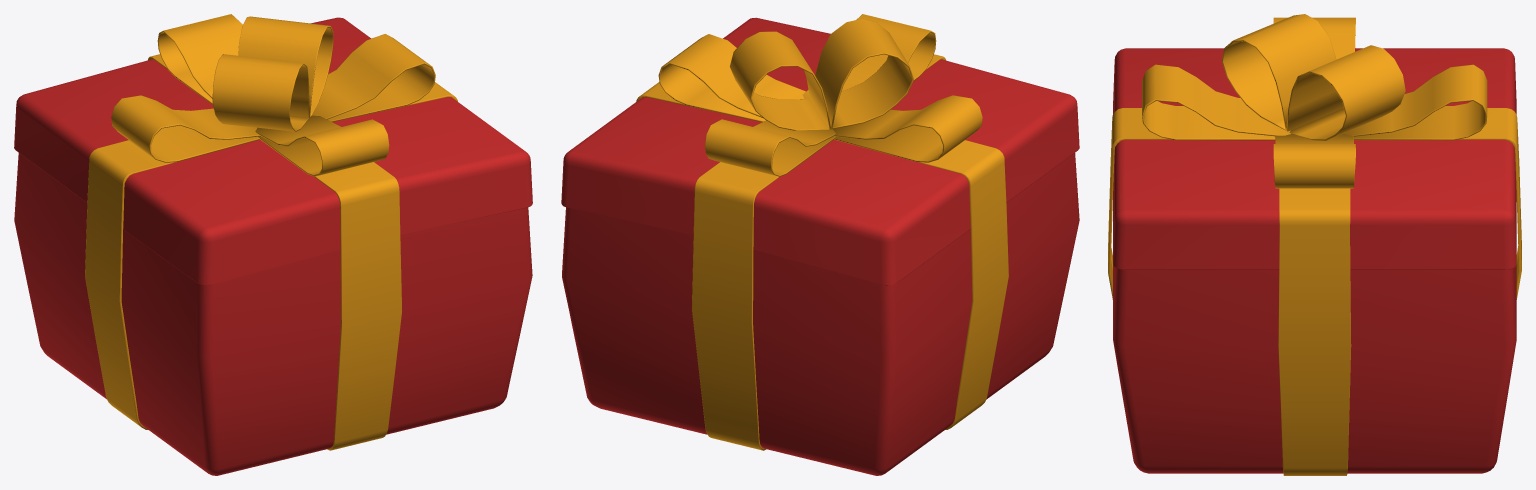
Rendered from gift-transformed.glb.
The picture shows the model from 3 angles, left to right: view 1: azimuth 30°, elevation 25°; view 2: azimuth 150°, elevation 25°; view 3: azimuth 270°, elevation 25°; orthographic projection. The views are drawn at different scales.
Visible parts, largest first — view 1: Cube.000 (×2); view 2: Cube.000 (×2); view 3: Cube.000 (×2).
Boxes of the visible parts, box(x1,y1,x2,y2) form: Cube.000 (×2): box(14, 14, 532, 475); Cube.000 (×2): box(561, 14, 1079, 475); Cube.000 (×2): box(1108, 14, 1521, 475).
Size of the model in its own units: 2.23 by 2.14 by 2.23.
